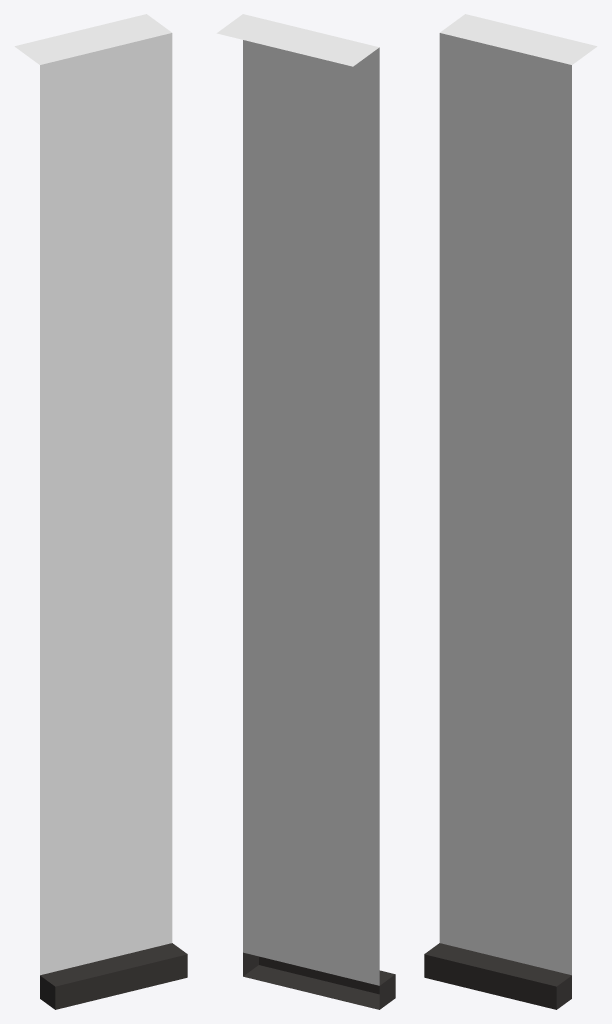
File: 16_wall.FBX
3 renders of one model, left to right at view 1: azimuth 30°, elevation 25°; view 2: azimuth 150°, elevation 25°; view 3: azimuth 330°, elevation 25°, orthographic. The views are drawn at different scales.
Parts seen in each view (by area): view 1: 16_wall; view 2: 16_wall; view 3: 16_wall.
Part boxes in pixels (left/top/right/bottom): 16_wall: left=14, top=14, right=187, bottom=1009; 16_wall: left=216, top=14, right=395, bottom=1009; 16_wall: left=424, top=14, right=597, bottom=1009.
Size of the model in its own units: 64.11 by 432 by 34.48.
